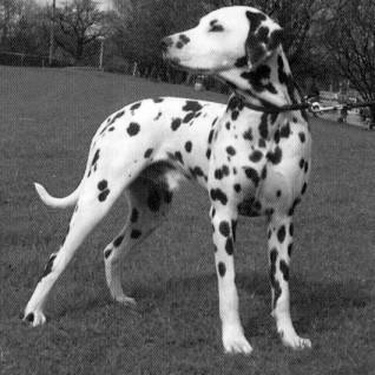dog: (10, 1, 331, 356)
